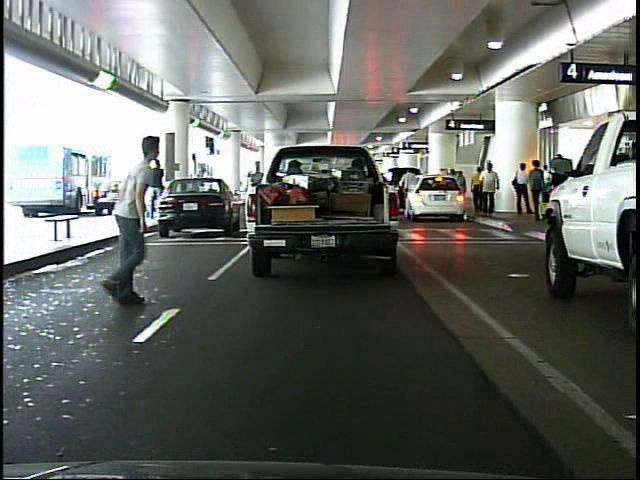person: (80, 125, 185, 317), (471, 156, 498, 223), (147, 157, 169, 219), (509, 159, 531, 218), (468, 160, 484, 220), (531, 158, 545, 225)
